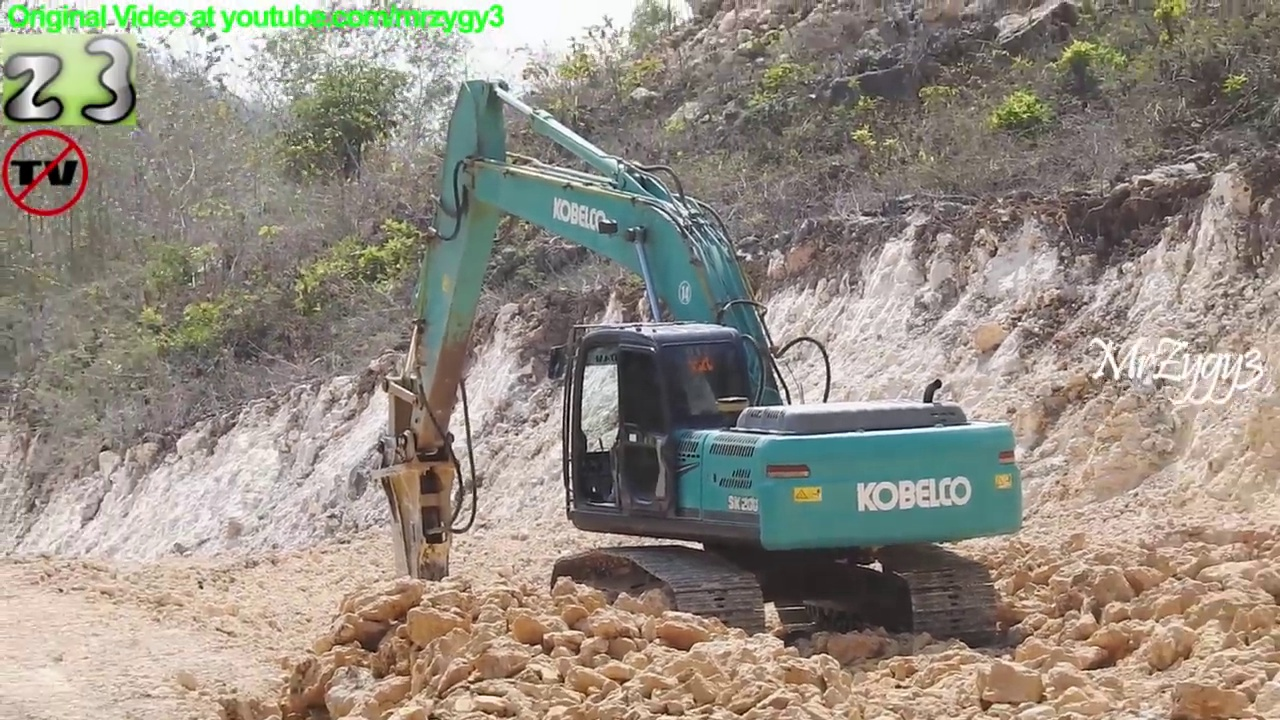excavator breaker: (365, 68, 1036, 652)
